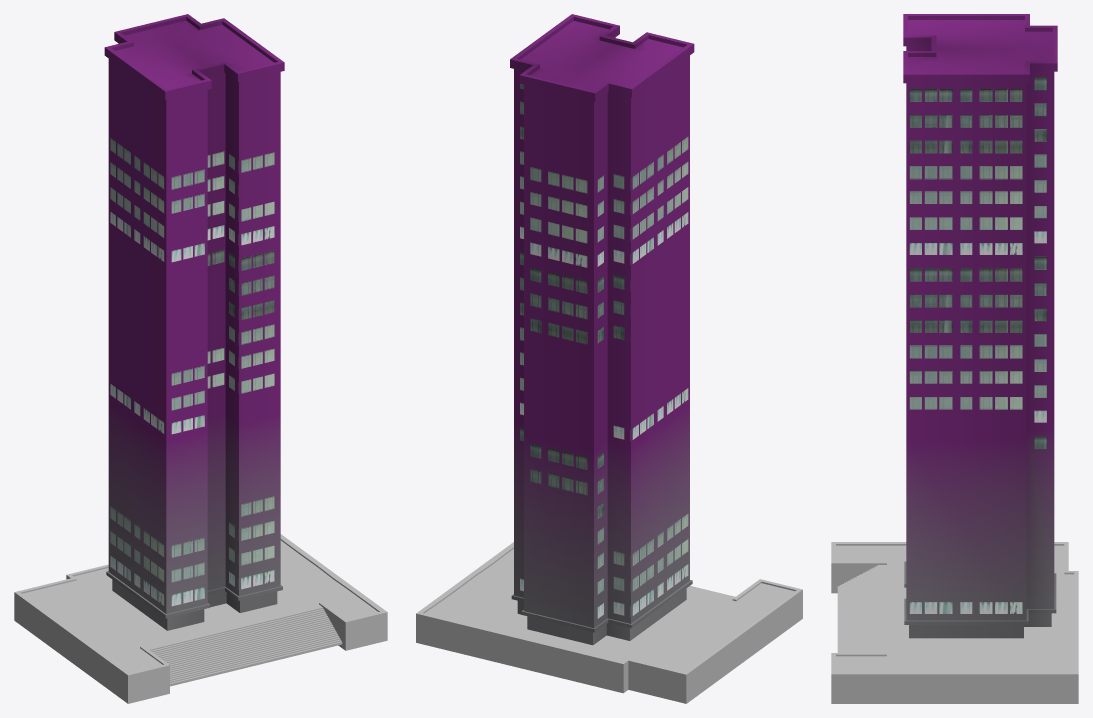
Rendered from downtown_skyscraper_1.FBX.
The picture shows the model from 3 angles, left to right: view 1: azimuth 30°, elevation 25°; view 2: azimuth 150°, elevation 25°; view 3: azimuth 270°, elevation 25°; orthographic projection. The views are drawn at different scales.
Visible parts, largest first — view 1: downtown_skyscraper_1, platform_dtw_skyscraper_1, em_win_dwtn_skyscraper_1; view 2: downtown_skyscraper_1, platform_dtw_skyscraper_1, em_win_dwtn_skyscraper_1; view 3: downtown_skyscraper_1, platform_dtw_skyscraper_1, em_win_dwtn_skyscraper_1.
Part boxes in pixels (box(x1,y1,x2,y2)): downtown_skyscraper_1: box(104, 14, 284, 630); platform_dtw_skyscraper_1: box(14, 534, 387, 703); em_win_dwtn_skyscraper_1: box(110, 138, 274, 606); downtown_skyscraper_1: box(510, 14, 694, 645); platform_dtw_skyscraper_1: box(416, 542, 802, 703); em_win_dwtn_skyscraper_1: box(520, 83, 688, 618); downtown_skyscraper_1: box(903, 14, 1057, 638); platform_dtw_skyscraper_1: box(831, 542, 1078, 703); em_win_dwtn_skyscraper_1: box(909, 77, 1046, 613).
Bounding box in the file's own units: 346 × 726 × 274.
